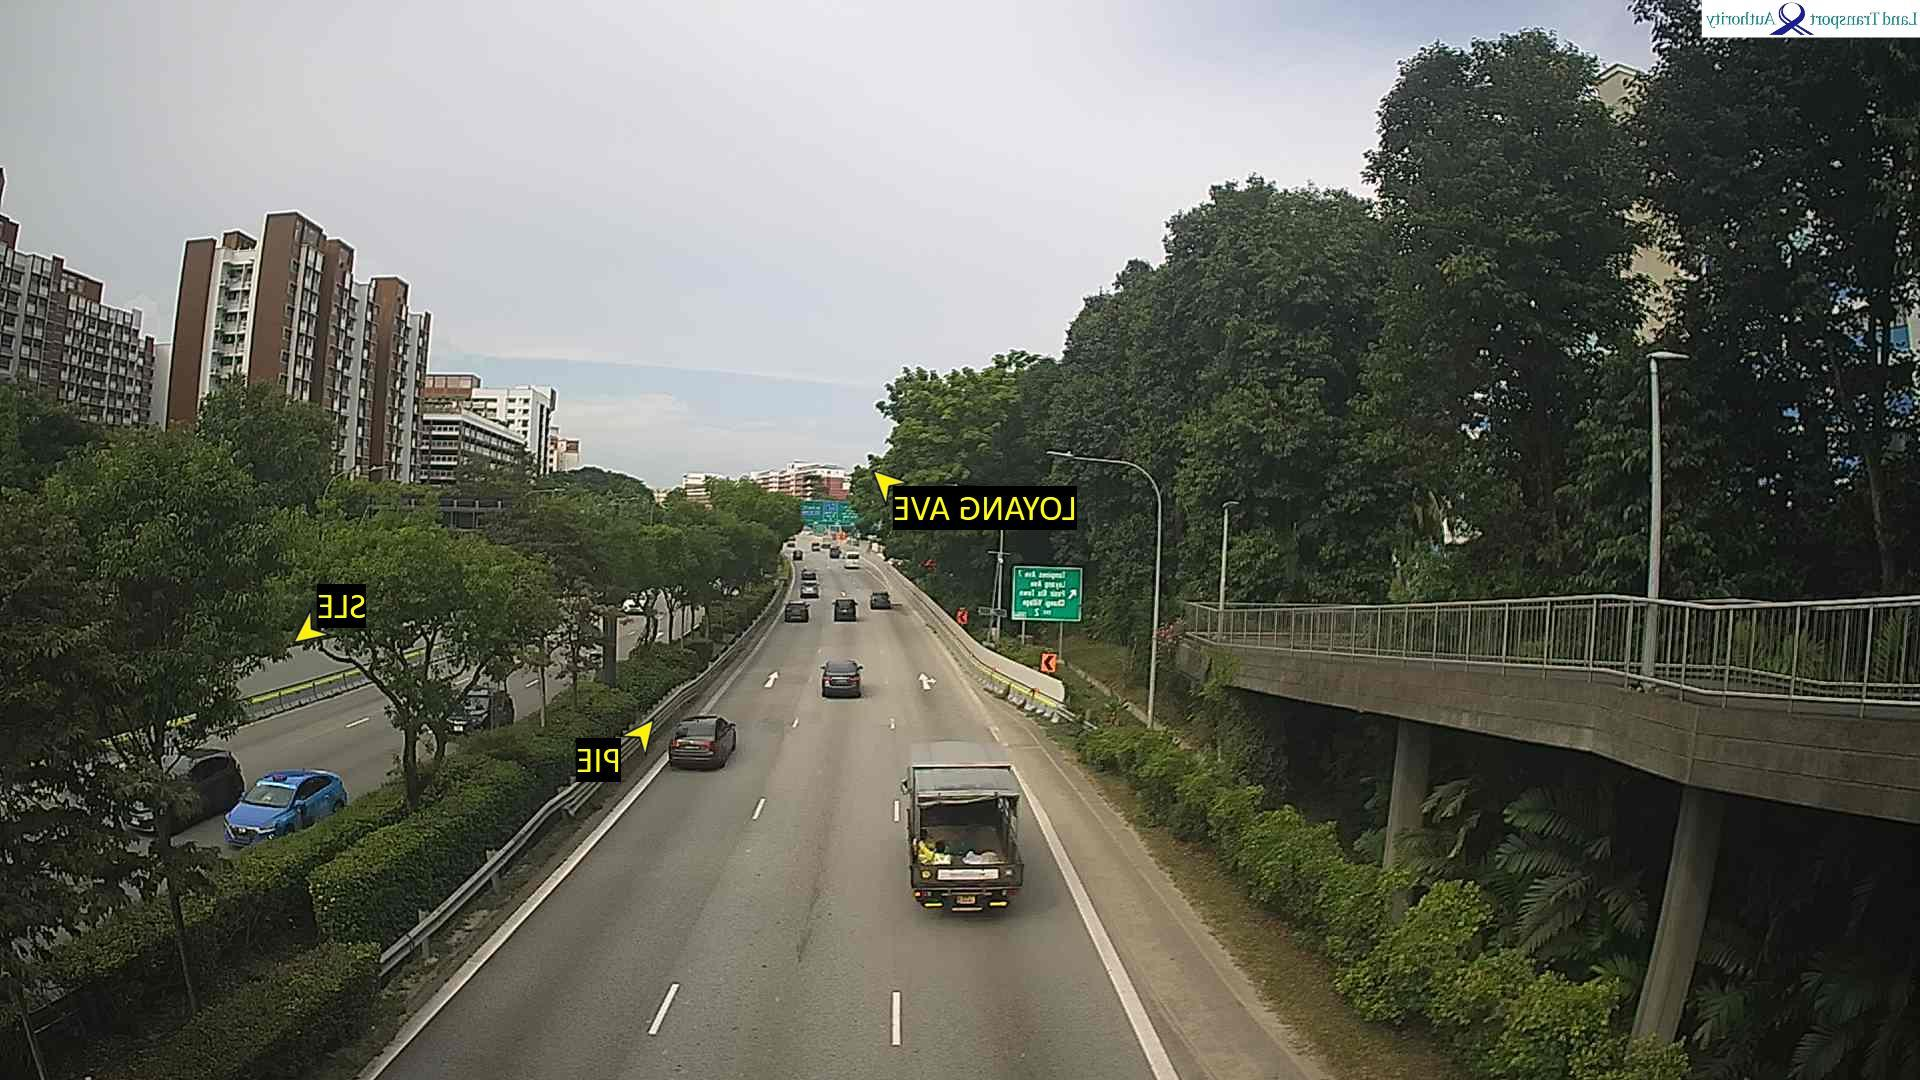cars: (124, 749, 246, 833), (223, 767, 349, 847), (669, 713, 738, 770), (445, 687, 515, 733), (822, 658, 865, 697), (834, 595, 858, 620), (785, 600, 810, 622), (870, 590, 892, 608), (799, 583, 823, 599), (783, 539, 801, 559), (845, 550, 862, 568), (800, 570, 819, 582), (811, 535, 824, 550), (829, 543, 842, 557)
trucks: (894, 739, 1026, 912)
